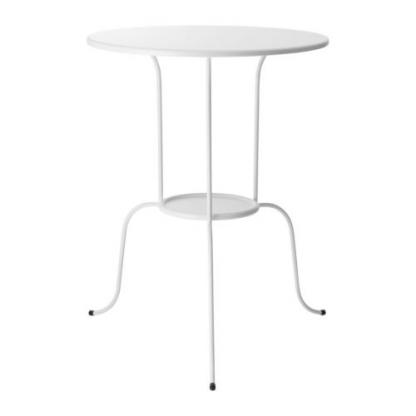Table: (84, 20, 332, 396)
